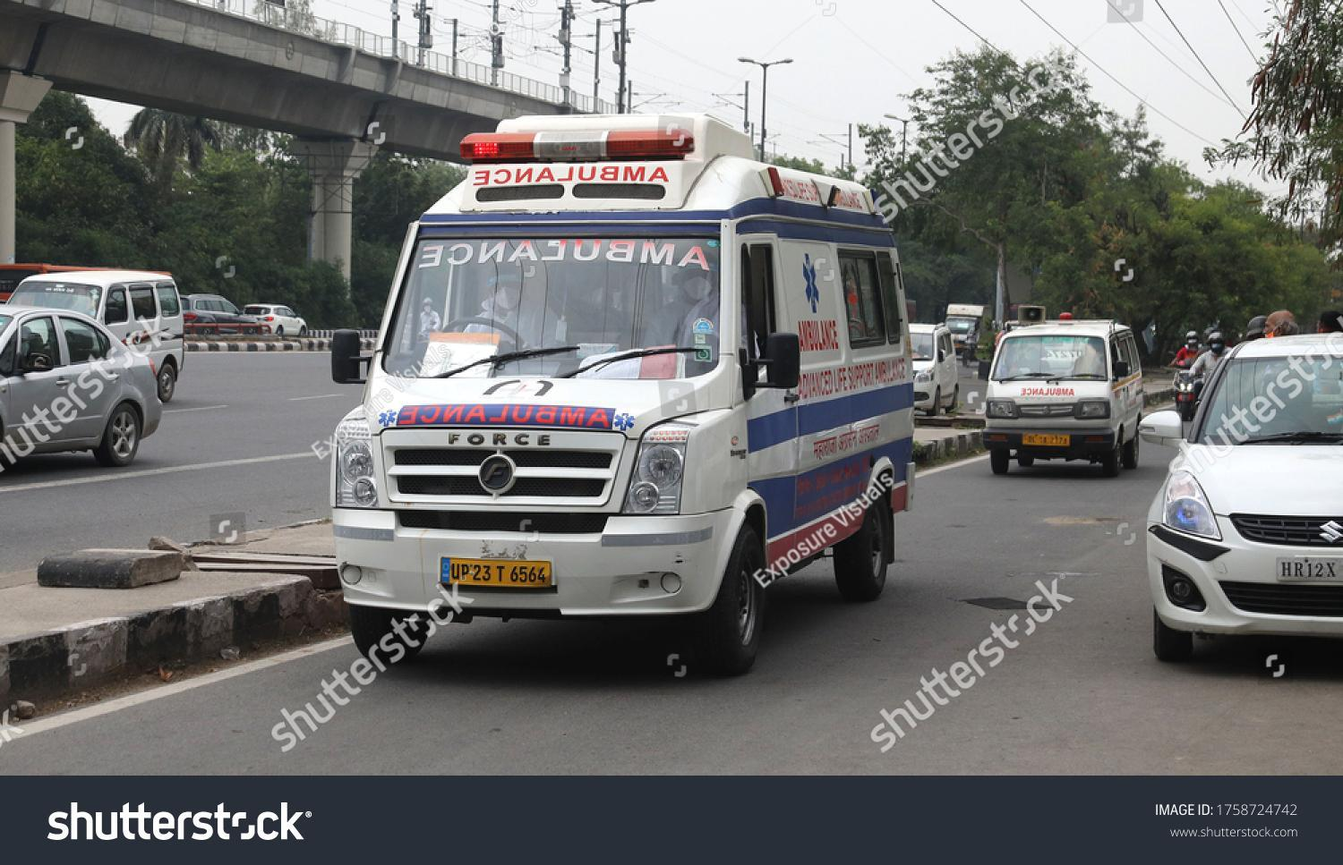Ambulance: (412, 236, 718, 277), (468, 160, 678, 191)
